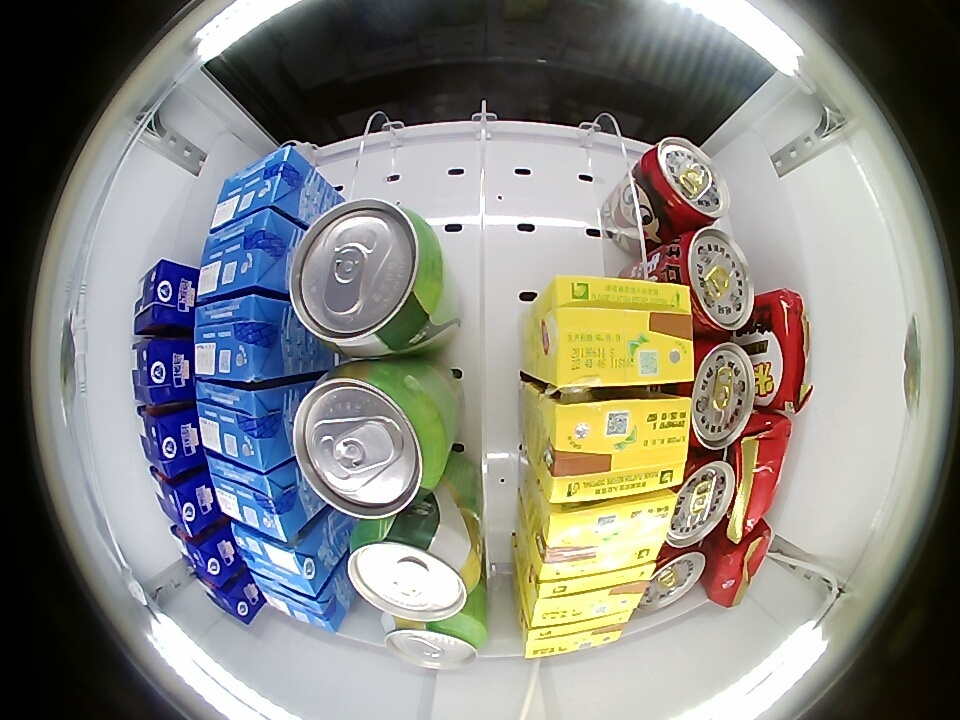bingqilinniunai: (149, 466, 217, 537), (134, 259, 197, 334), (137, 406, 201, 477), (170, 524, 241, 588), (132, 337, 194, 405), (196, 572, 264, 625)
kaomo_shaokao: (745, 289, 810, 414), (726, 416, 791, 540), (704, 521, 771, 608)
quchenshixiangcao: (293, 361, 446, 518), (290, 199, 441, 356), (348, 515, 481, 621), (384, 614, 487, 670)
wangzainiunai: (668, 228, 755, 335), (634, 137, 730, 233), (687, 340, 757, 449), (664, 453, 736, 549), (639, 540, 707, 611)
weitanai: (196, 207, 294, 302), (208, 145, 313, 233), (194, 379, 291, 474), (204, 452, 302, 543), (192, 292, 288, 383), (230, 522, 331, 598), (251, 572, 347, 632)
weitaningmeng: (540, 274, 694, 390), (535, 395, 691, 504), (528, 491, 676, 581), (523, 561, 656, 629), (520, 612, 631, 659)
